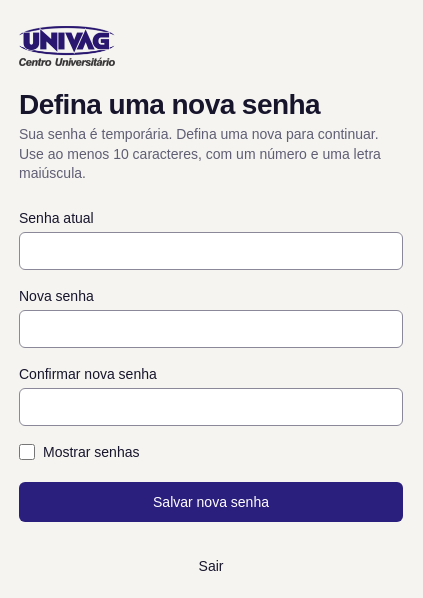
Test case: TrocarSenhaPage › Erro_do_servidor_aparece_no_campo
This screenshot has width=423, height=598.
Type "Temporaria12" into the password field labelled "Senha atual".
click(211, 251); type("Temporaria12")  # box [19,232,403,270]
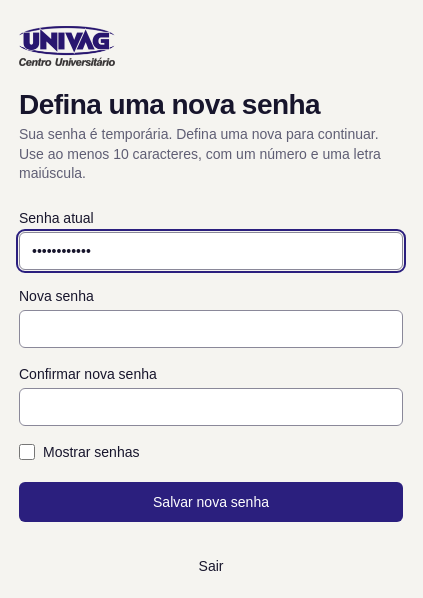
Type "Temporaria12" into the password field labelled "Nova senha".
click(211, 329); type("Temporaria12")  # box [19,310,403,348]
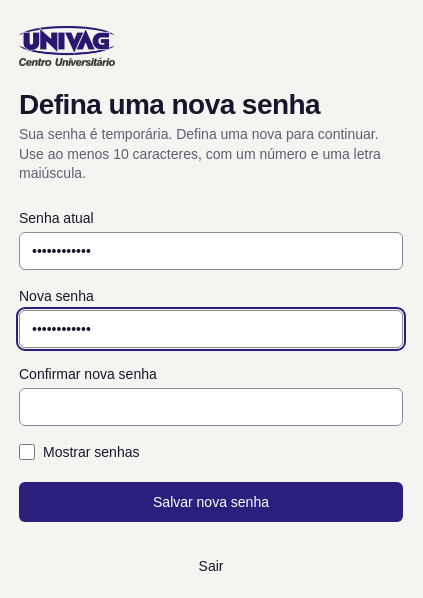
Type "Temporaria12" into the password field labelled "Confirmar nova senha".
click(211, 407); type("Temporaria12")  # box [19,388,403,426]
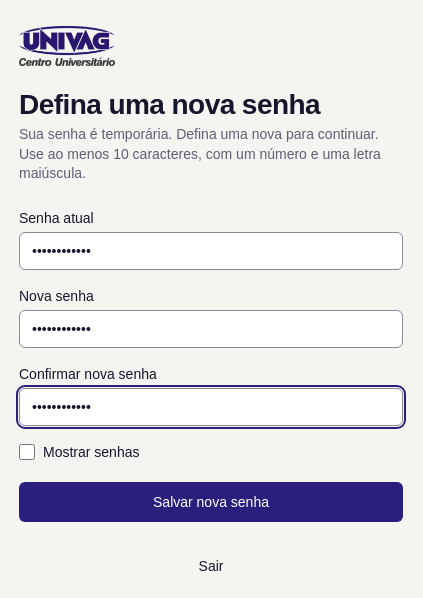
Click the button "Salvar nova senha".
click(211, 502)  # box [19,482,403,522]
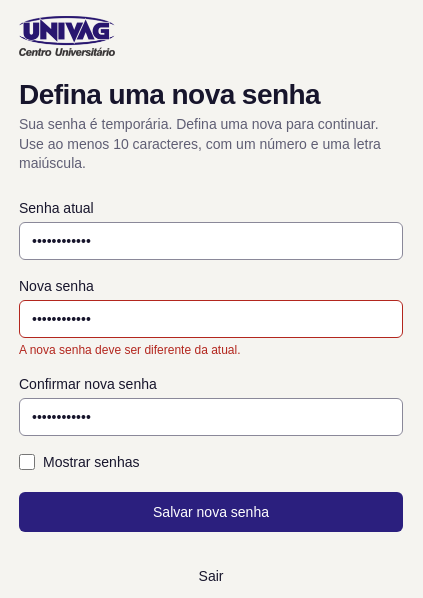
Check: the button "Salvar nova senha" is enabled, box [19,492,403,532]
Check: the text "A nova senha deve ser diferente da atual." is shown, box [19,343,240,357]
